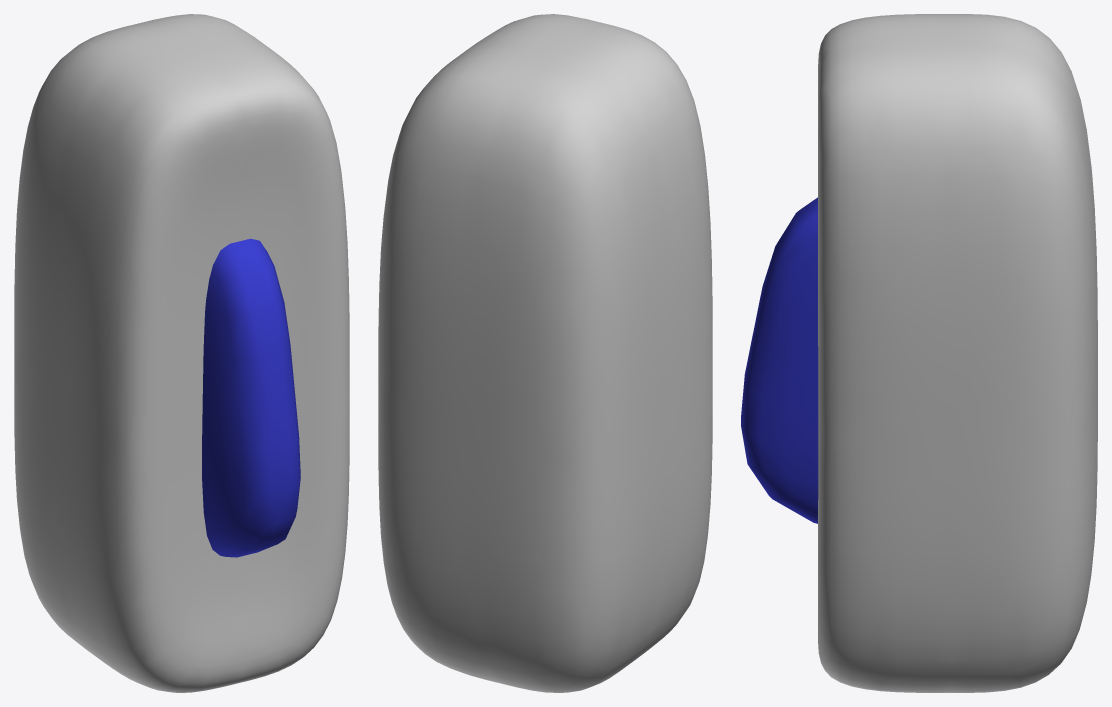
File: MotorSwitch.fbx
3 views of the same model, side by side, from view 1: azimuth 30°, elevation 25°; view 2: azimuth 150°, elevation 25°; view 3: azimuth 270°, elevation 25° (orthographic). The views are drawn at different scales.
Visible parts, largest first — view 1: 立方体_2, 立方体; view 2: 立方体_2; view 3: 立方体_2, 立方体.
Boxes of the visible parts, left/top/right/bottom form: 立方体_2: left=14, top=14, right=349, bottom=692; 立方体: left=202, top=238, right=300, bottom=557; 立方体_2: left=378, top=14, right=712, bottom=692; 立方体_2: left=818, top=14, right=1097, bottom=692; 立方体: left=741, top=197, right=818, bottom=523.
Size of the model in its own units: 0.8847 by 2.09 by 1.07.
